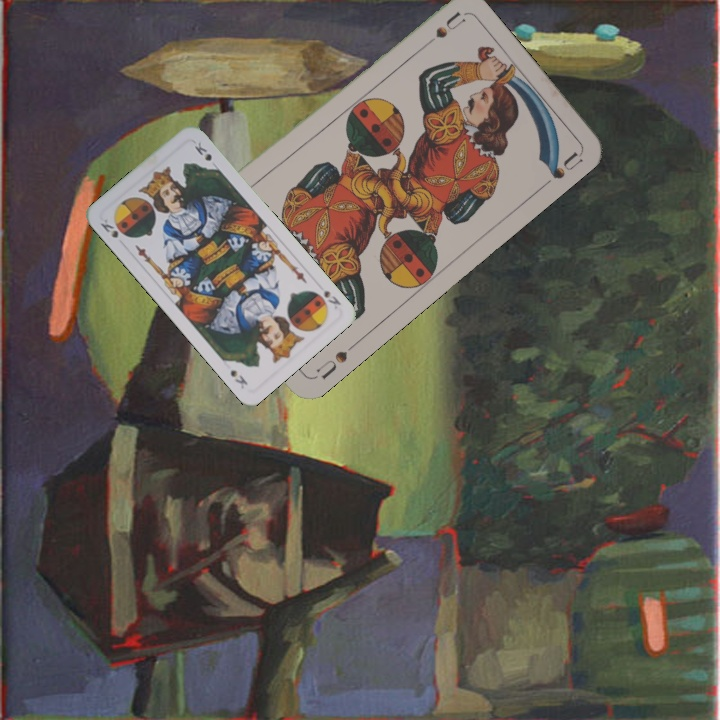SK: (320, 286, 343, 311), (96, 219, 121, 240)
SU: (415, 7, 466, 52), (311, 338, 360, 382)
